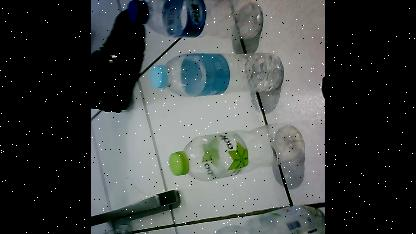Plastic Bottle: (164, 112, 308, 194), (146, 40, 288, 106), (129, 0, 279, 41), (181, 193, 325, 234)
